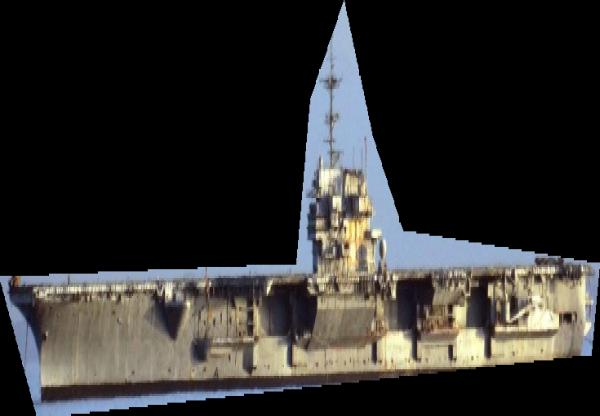Aircraft Carrier: (0, 0, 600, 416)
